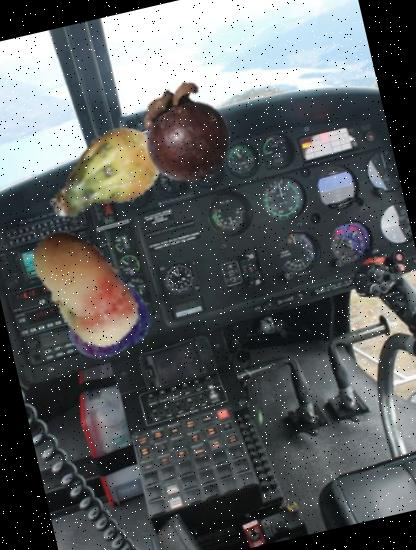Cactus: (32, 105, 181, 254)
Mangostan: (127, 74, 246, 192)
Peach: (5, 207, 162, 366)
Raspberry: (55, 268, 156, 368)
